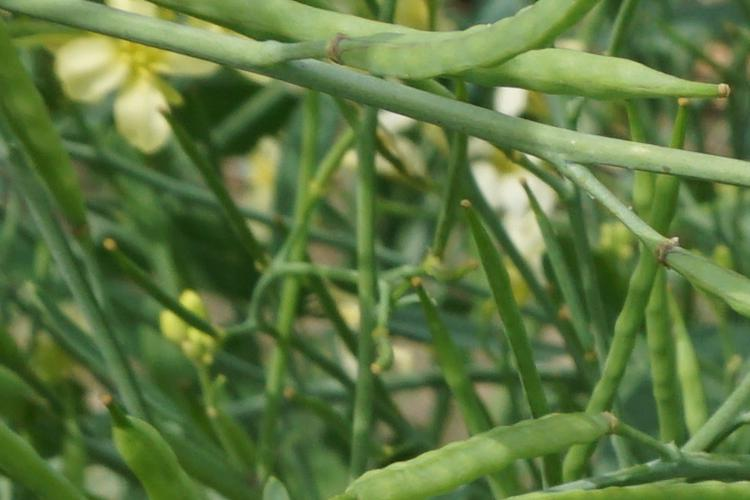pod: (438, 180, 548, 412), (555, 32, 737, 121), (92, 238, 240, 340), (97, 392, 210, 500), (397, 252, 470, 404)
white: (53, 12, 261, 145)
